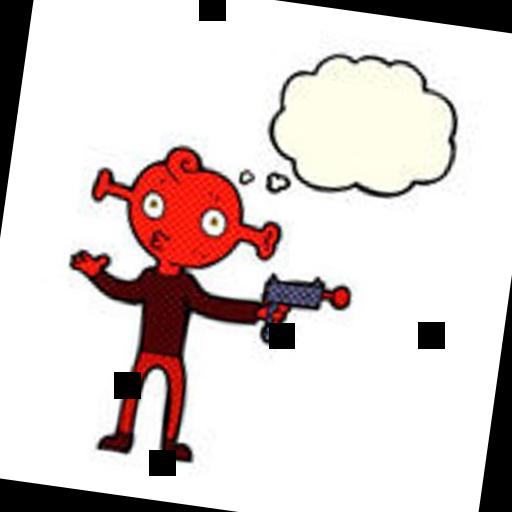Handgun: (256, 268, 334, 350)
